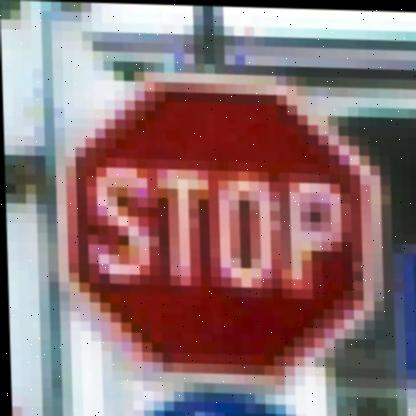Stop Sign: (51, 68, 395, 385)
